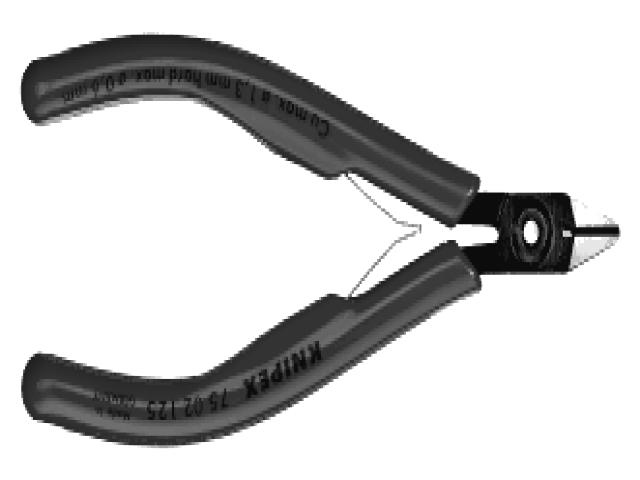Cutting pliers: (21, 36, 619, 445)
